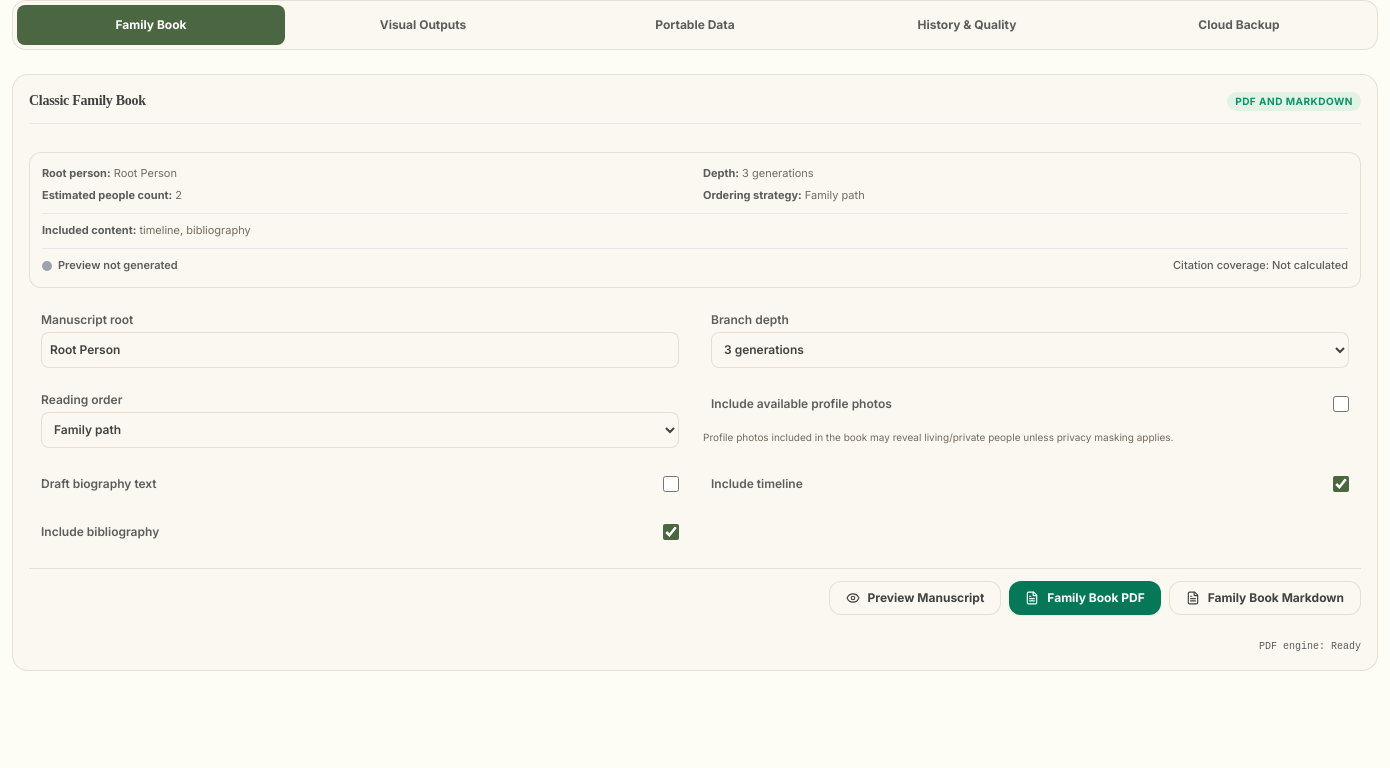
it: ExportCloudPanel manuscript preview › Publishing History and Quality Panel › renders Visual Output posters and snapshots, and generic PDF fallbacks correctly
This screenshot has width=1390, height=768.
What coordinates should you click on to do the following:
click the tab "History & Quality"
I would click on:
 (967, 25)
Its box is [833,5,1101,45].
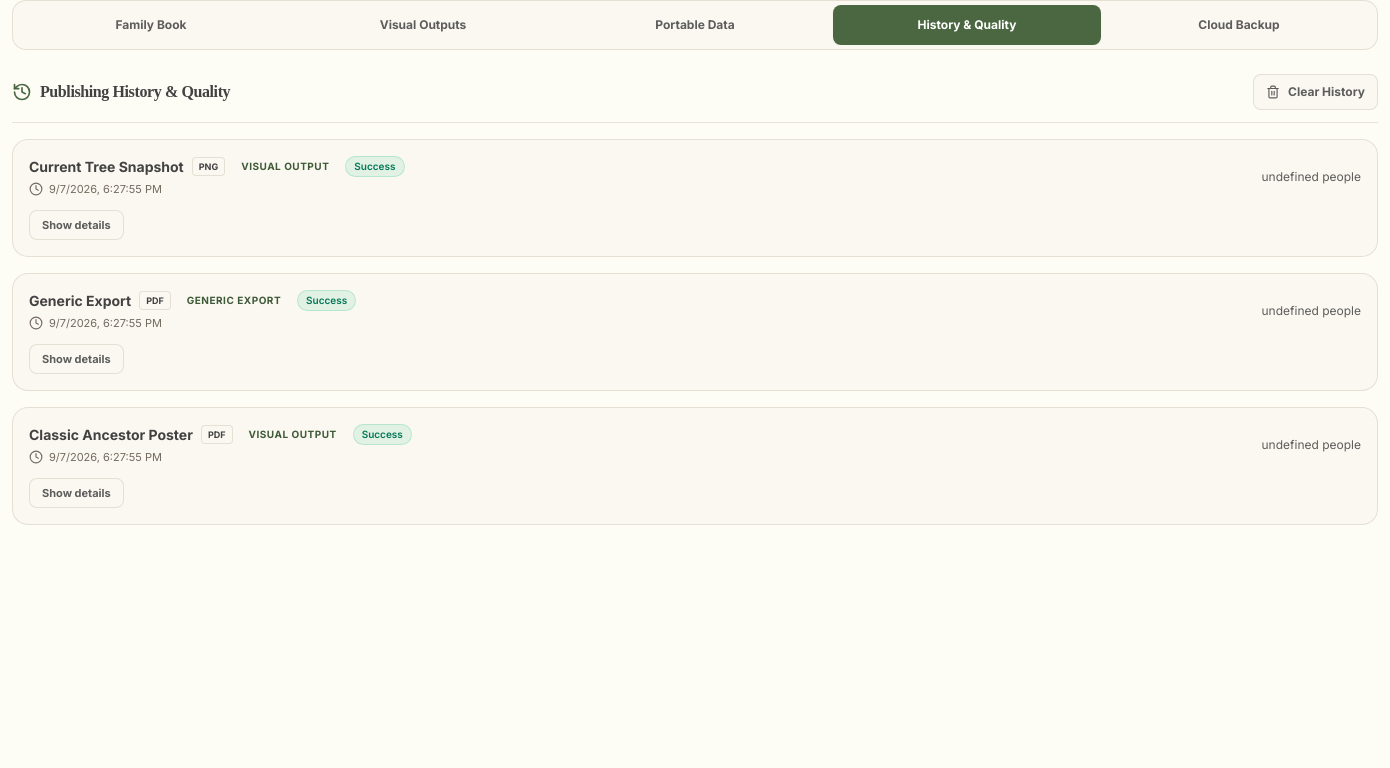
Now the text "Classic Ancestor Poster" is shown, box [29,424,193,444]
Now the text "Visual Output" is shown 2 times, box [241,160,329,172]; [248,428,337,440]
Now the text "Current Tree Snapshot" is shown, box [29,156,184,176]
